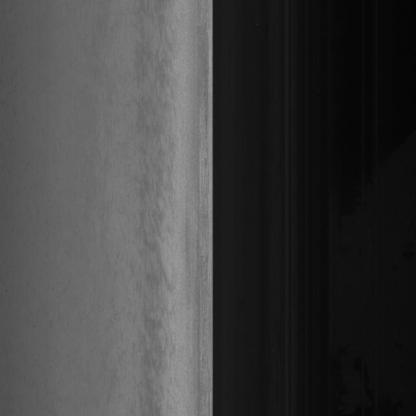silk_spot: (141, 162, 173, 277)
